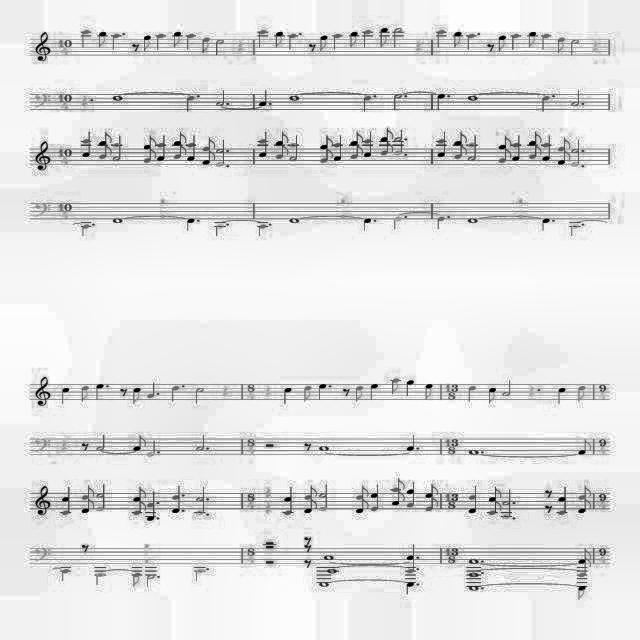Bass-clef: (28, 427, 52, 453), (33, 536, 51, 566), (32, 88, 50, 109), (36, 191, 48, 221)
Eighth-note: (72, 373, 90, 411), (383, 361, 401, 399), (420, 363, 436, 402), (572, 373, 588, 411), (297, 368, 311, 409), (72, 476, 96, 499), (140, 116, 156, 150), (387, 466, 405, 494), (163, 20, 180, 48), (95, 22, 108, 58), (95, 120, 113, 146), (124, 565, 140, 593), (300, 481, 320, 503), (353, 479, 373, 501), (128, 430, 146, 454), (574, 432, 590, 458), (422, 475, 438, 501), (140, 19, 152, 53), (484, 376, 496, 410), (198, 131, 218, 151), (570, 582, 588, 604), (319, 126, 333, 154), (525, 124, 541, 148), (130, 376, 142, 408), (352, 378, 364, 410), (555, 26, 567, 58), (272, 126, 288, 150), (496, 128, 512, 152), (554, 146, 570, 170), (170, 124, 187, 146), (577, 542, 591, 568), (496, 20, 506, 56), (527, 18, 537, 54), (374, 19, 386, 49), (482, 498, 500, 518), (142, 146, 156, 170), (389, 486, 403, 509), (575, 498, 591, 518), (347, 123, 361, 145), (98, 143, 112, 165), (455, 120, 465, 150), (198, 30, 210, 54), (75, 497, 93, 513), (132, 478, 144, 502), (575, 484, 591, 502), (133, 497, 147, 517), (378, 123, 390, 145), (558, 131, 570, 153), (348, 146, 364, 162), (198, 152, 214, 168), (316, 146, 332, 162), (273, 142, 287, 160), (302, 500, 320, 514), (452, 26, 462, 50), (486, 485, 499, 503), (318, 28, 326, 56), (454, 143, 466, 161), (272, 23, 280, 49), (528, 142, 538, 162), (348, 26, 356, 50), (424, 500, 440, 512), (172, 146, 186, 158), (502, 147, 510, 165), (580, 562, 592, 574), (357, 501, 367, 515), (381, 144, 392, 156)
Eighth-rest: (128, 36, 142, 64), (117, 371, 129, 403), (306, 34, 318, 62), (78, 434, 92, 458), (484, 31, 496, 57), (542, 477, 554, 503), (300, 433, 312, 459), (82, 530, 94, 554), (340, 376, 350, 399), (298, 556, 312, 572), (301, 527, 315, 543), (540, 504, 556, 516), (305, 542, 313, 554)
Full-note: (280, 200, 302, 232), (464, 78, 482, 110), (285, 80, 301, 114), (109, 80, 128, 108), (108, 208, 124, 240), (316, 432, 336, 456), (466, 202, 482, 230), (316, 576, 332, 594), (468, 548, 480, 568), (466, 566, 482, 580), (323, 546, 337, 562), (467, 580, 479, 592)
Half-note: (286, 124, 304, 164), (315, 470, 333, 510), (112, 124, 125, 172), (568, 23, 584, 61), (392, 12, 404, 61), (188, 430, 208, 458), (94, 423, 110, 453), (470, 125, 482, 162), (497, 481, 508, 521), (214, 136, 226, 172), (570, 134, 582, 170), (96, 480, 108, 514), (216, 26, 227, 62), (146, 427, 156, 465), (192, 379, 206, 406), (391, 121, 401, 157), (500, 375, 512, 405), (388, 85, 398, 119), (212, 84, 224, 112), (142, 566, 156, 590), (573, 80, 579, 112)
Half-rest: (257, 429, 279, 455), (262, 529, 282, 547), (262, 542, 282, 556), (263, 553, 277, 567)
Quarter-note: (275, 480, 295, 522), (428, 126, 450, 160), (557, 474, 571, 526), (254, 128, 274, 164), (540, 123, 556, 165), (142, 367, 158, 409), (76, 124, 90, 168), (108, 21, 122, 63), (329, 13, 343, 55), (59, 477, 73, 517), (78, 21, 92, 59), (278, 373, 292, 411), (552, 378, 566, 416), (286, 21, 298, 64), (178, 80, 194, 112), (398, 426, 414, 458), (434, 14, 446, 54), (512, 126, 524, 166), (468, 478, 478, 526), (167, 478, 180, 514), (332, 125, 343, 167), (256, 82, 270, 115), (360, 10, 370, 56), (246, 217, 266, 240), (369, 472, 379, 518), (168, 377, 180, 415), (407, 472, 417, 516), (463, 23, 473, 65), (56, 561, 72, 587), (362, 124, 374, 158), (366, 373, 378, 407), (252, 20, 264, 52), (508, 24, 520, 56), (187, 130, 197, 168), (146, 484, 156, 522), (183, 15, 193, 52), (402, 535, 416, 561), (402, 374, 414, 404), (80, 220, 92, 248), (534, 212, 548, 236), (88, 378, 100, 404), (160, 126, 167, 170), (540, 23, 548, 61), (317, 374, 327, 404), (361, 87, 372, 113), (179, 216, 193, 236), (433, 210, 443, 238), (397, 561, 411, 581), (542, 86, 550, 118), (466, 376, 474, 408), (406, 578, 416, 600), (436, 87, 444, 113), (155, 26, 161, 59), (61, 380, 68, 408), (362, 213, 370, 234)
Treble-clef: (28, 358, 52, 414), (31, 464, 54, 520), (29, 131, 52, 177), (35, 19, 55, 70)
